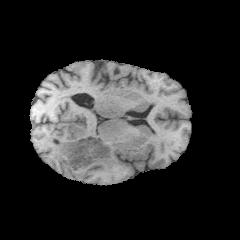glioma: (51, 129, 117, 179)
